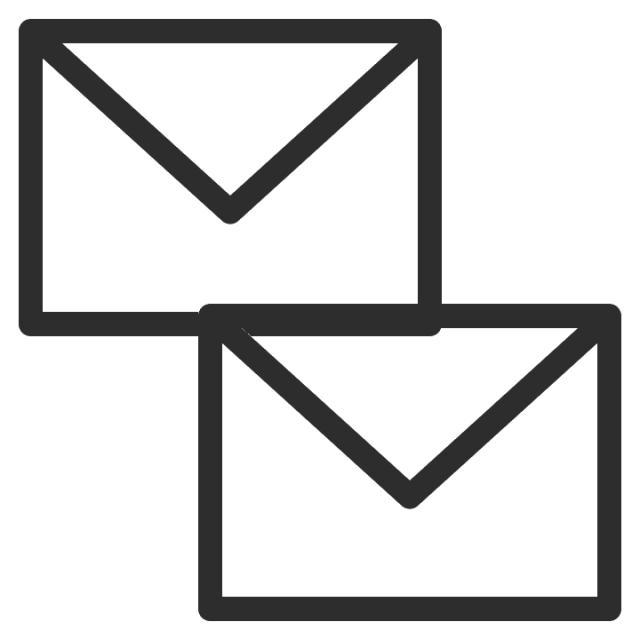letter: (10, 5, 457, 352), (192, 301, 622, 625)
